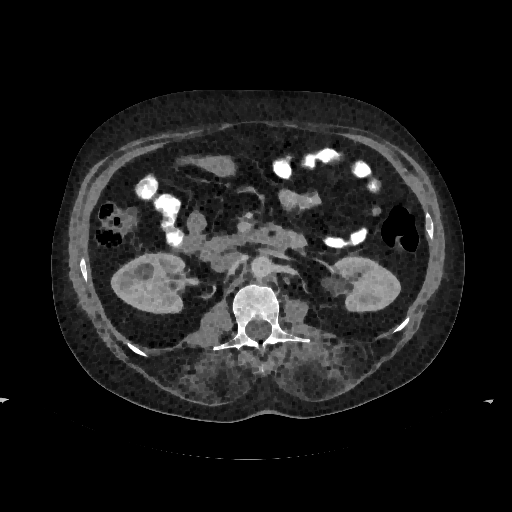Lesion: (133, 261, 157, 283)
